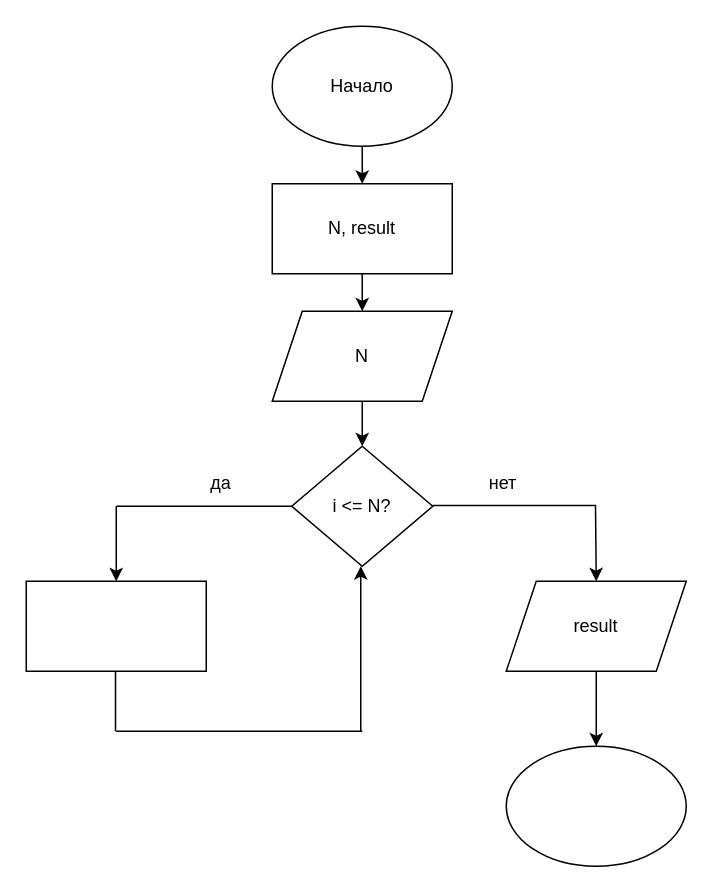
Image size: 713x893. Some labels were removed from this diagram. The centre of each missing label's shape, as x and y in pixels:
chislo = 1.0 + i / 10.0 result = result * chislo i = i + 1: point (115, 625)
Конец: point (595, 805)
